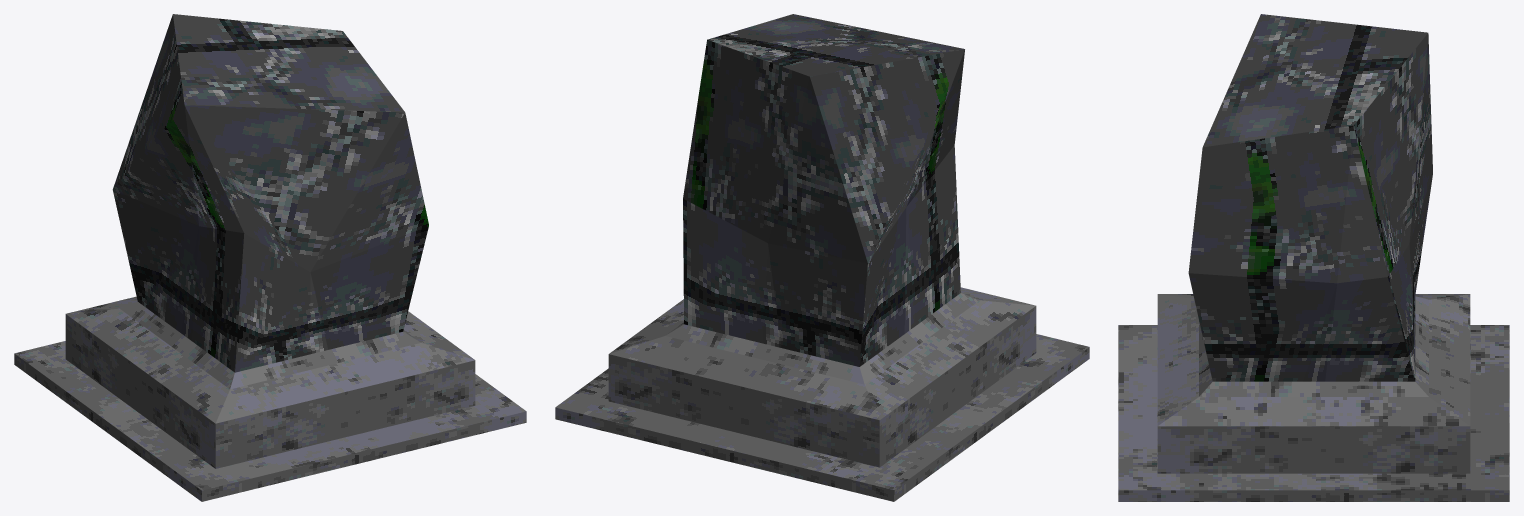
File: pillar_broken_01.gltf
3 views of the same model, side by side, from view 1: azimuth 30°, elevation 25°; view 2: azimuth 150°, elevation 25°; view 3: azimuth 270°, elevation 25° (orthographic). The views are drawn at different scales.
Parts seen in each view (by area): view 1: pillar_broken_01; view 2: pillar_broken_01; view 3: pillar_broken_01.
Boxes of the visible parts, <box> form: pillar_broken_01: <box>14,14,526,501</box>; pillar_broken_01: <box>555,14,1089,501</box>; pillar_broken_01: <box>1118,14,1509,501</box>.
Size of the model in its own units: 1.5 by 1.54 by 1.5.
Materials: 1 (1 with a texture image).
